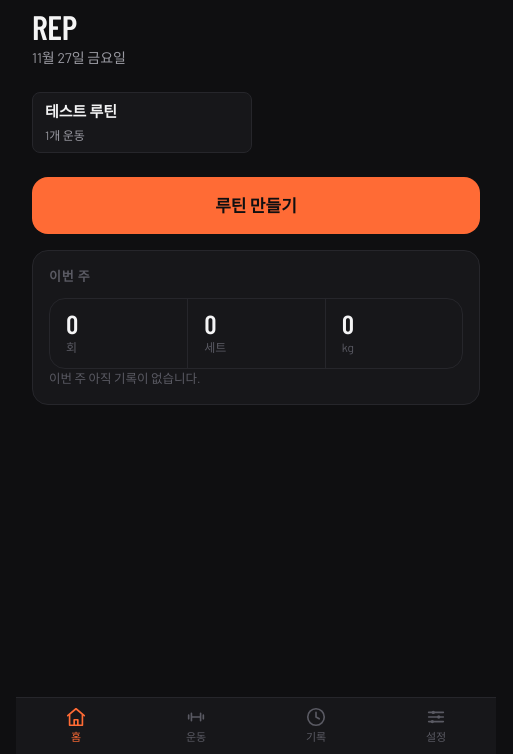
Test case: navigation (jsdom) — 뒤로가기 & 화면 이동 › 홈 → 루틴 → 뒤로가기: 홈으로 정확히 돌아간다
The width and height of the screenshot is (513, 754).
Later steps or results of the test are not shown.
Click the link "테스트 루틴 1개 운동". click: (142, 123)
box: [32,92,252,153]
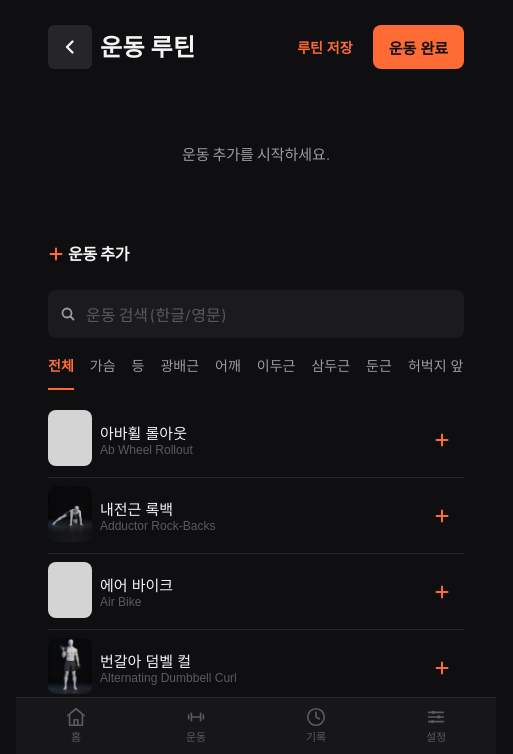
Result: the button named "뒤로" is shown at [48,26,92,70]
